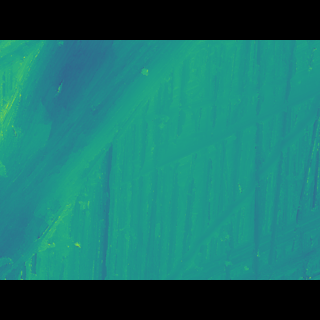Loch: (0, 67, 205, 249), (163, 109, 319, 250)
